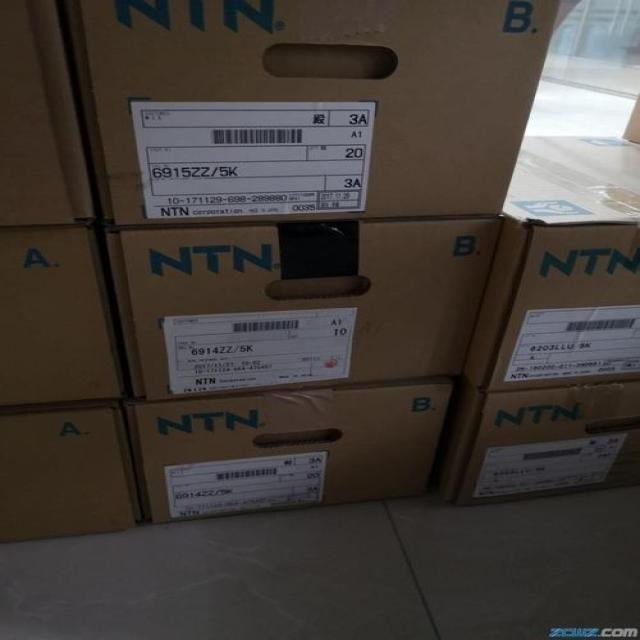box: (65, 0, 561, 226), (102, 214, 503, 397), (129, 378, 456, 527), (470, 135, 640, 391), (434, 377, 640, 506), (0, 227, 128, 410), (0, 404, 146, 544)
